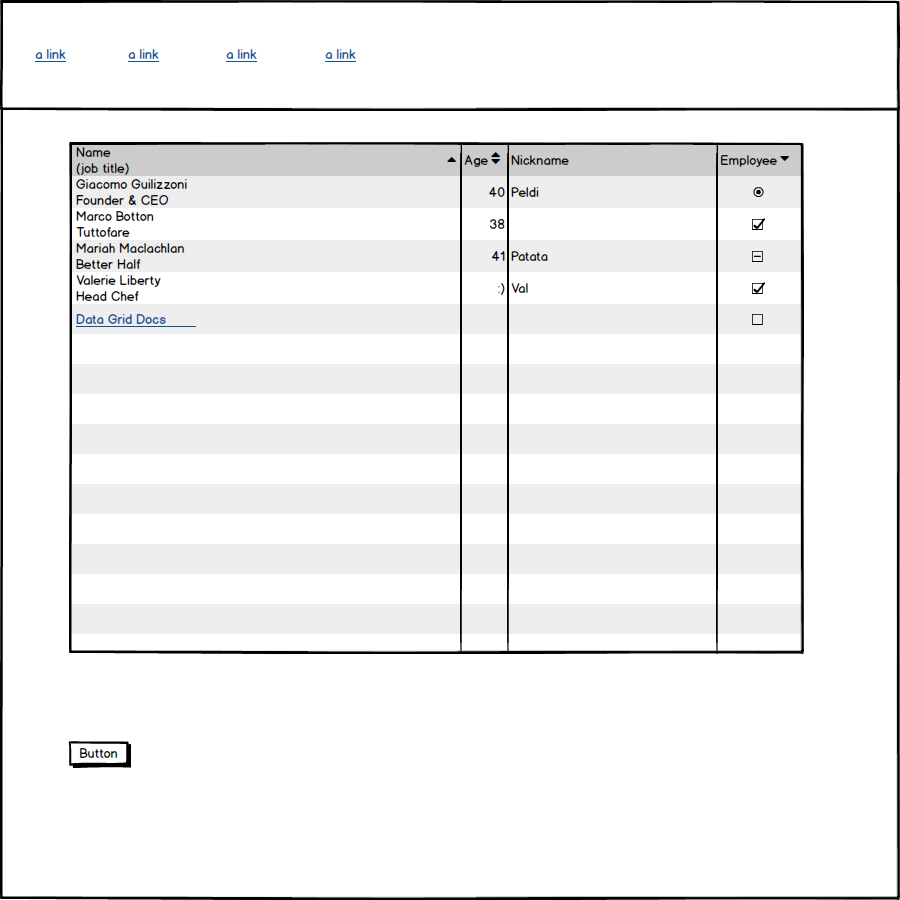button: (59, 738, 135, 773)
navlink: (26, 38, 86, 71), (220, 38, 274, 71), (124, 38, 167, 71), (322, 43, 363, 70)
table: (64, 136, 816, 662)
